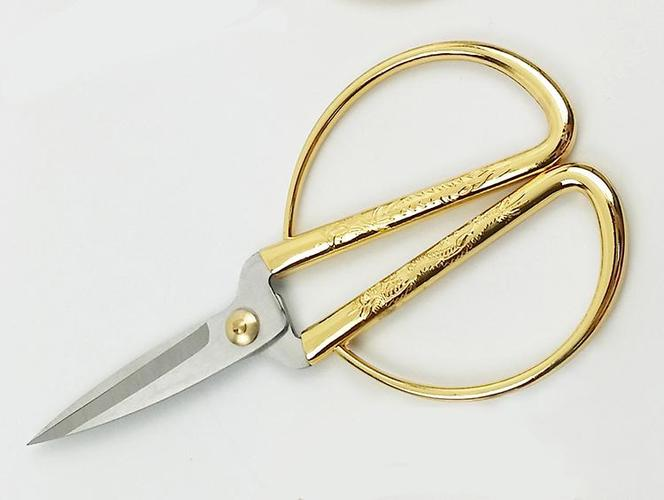scissor: (27, 40, 629, 449)
